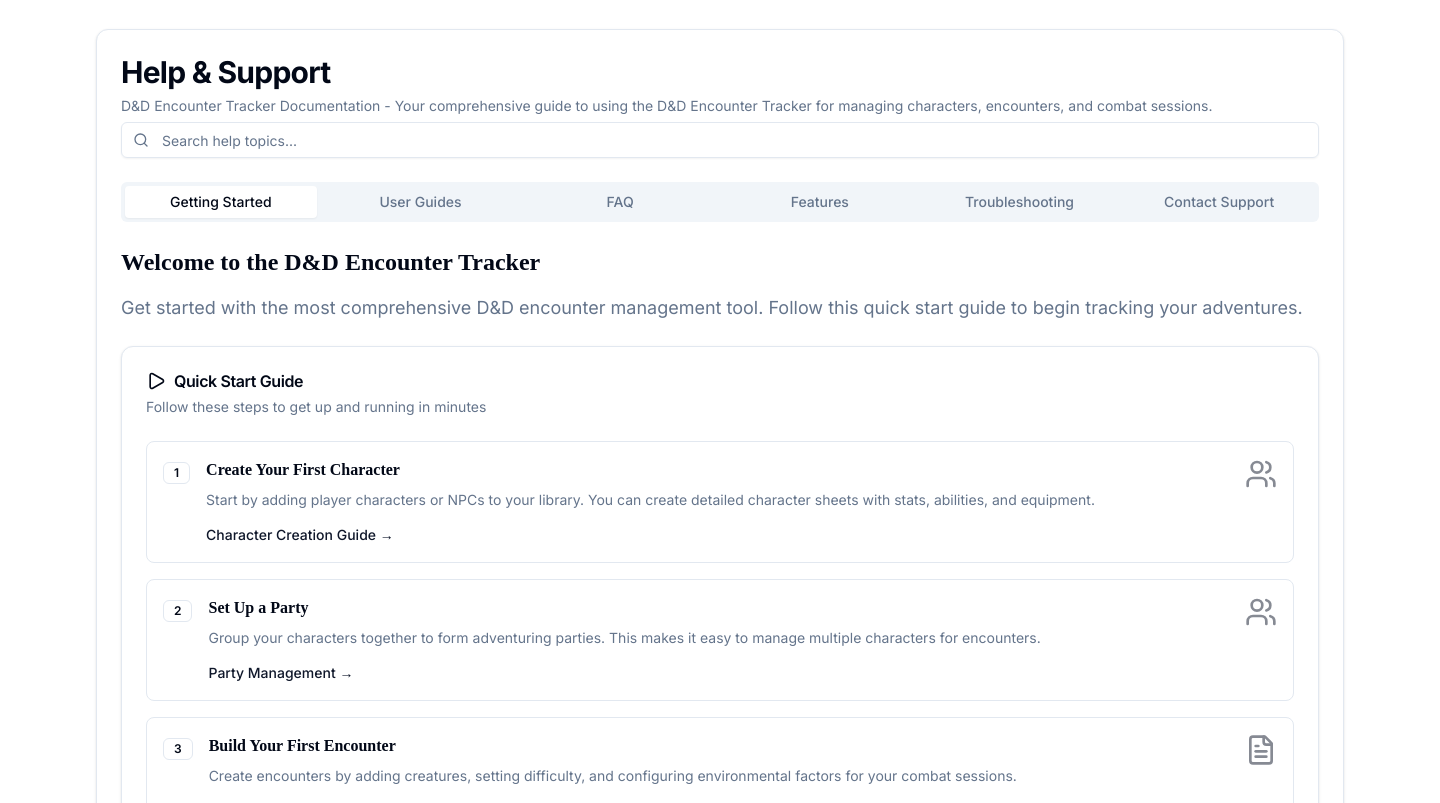
HelpPage Component › Troubleshooting Section › displays troubleshooting guides when tab is selected
Click the tab "Troubleshooting".
click(1020, 202)  # box [924,186,1115,218]
(page scrolled)
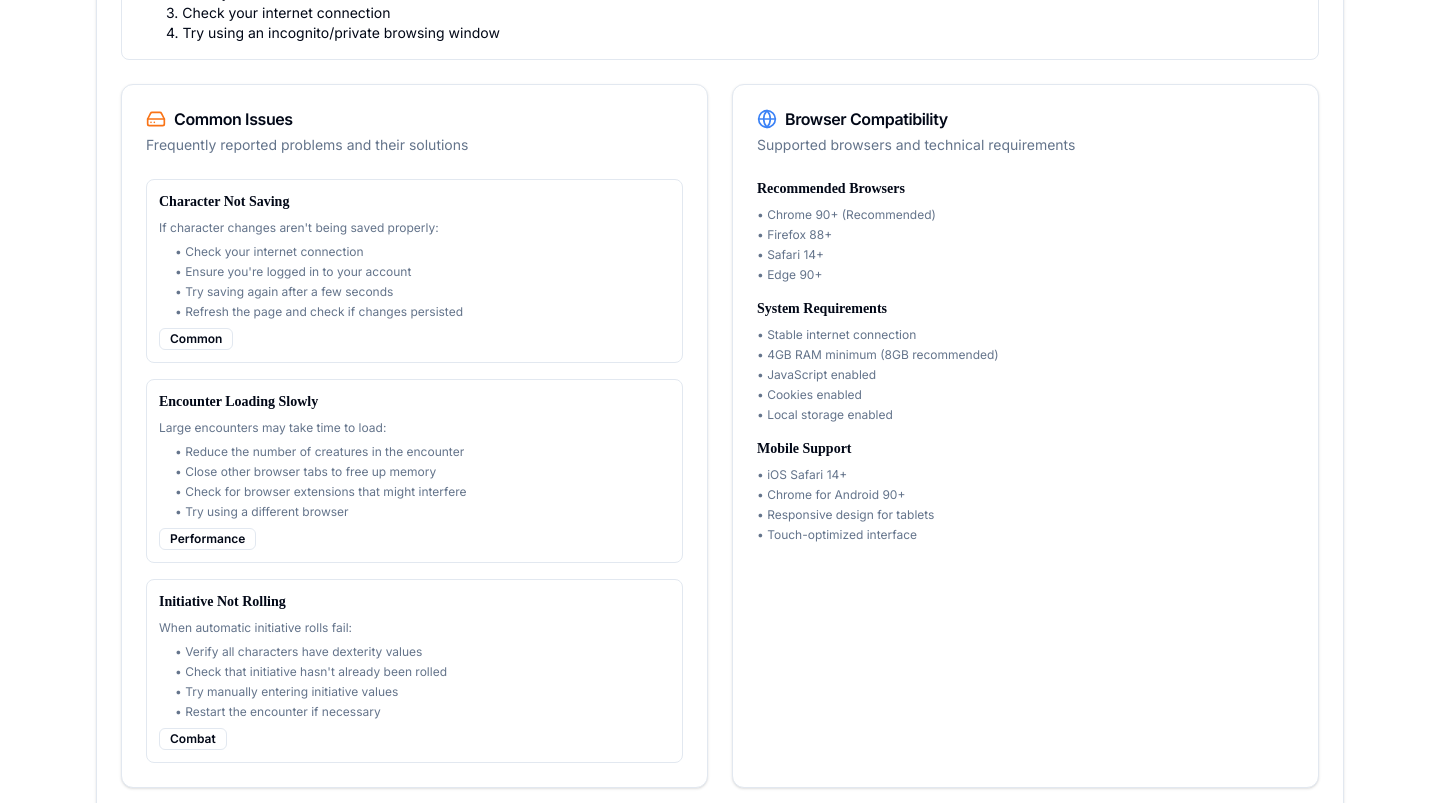
Now the heading "Character Not Saving" is shown, box [159,194,289,209]
Now the heading "Encounter Loading Slowly" is shown, box [159,394,318,409]
